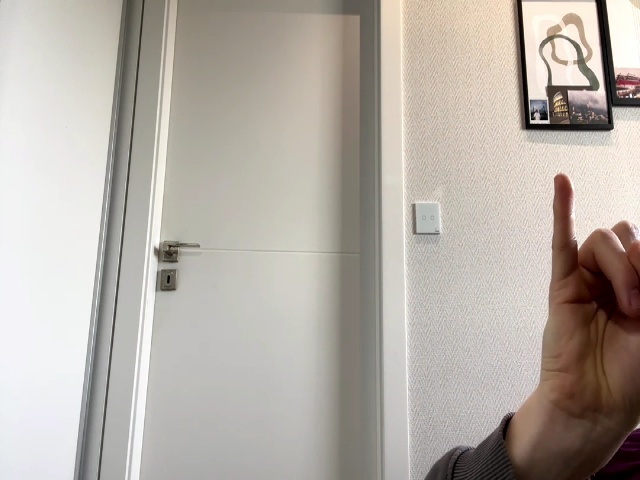I: (544, 173, 640, 426)
